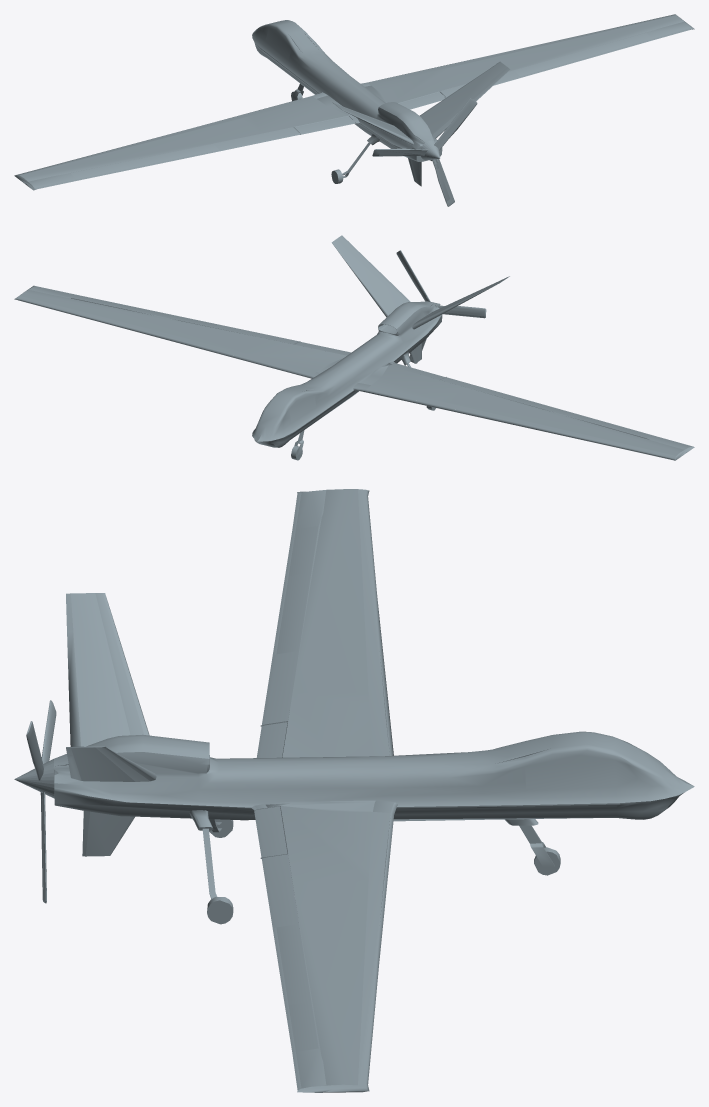
File: model-aircraft-dd-1.glb
3 renders of one model, top to bottom at view 1: azimuth 30°, elevation 25°; view 2: azimuth 150°, elevation 25°; view 3: azimuth 270°, elevation 25°, orthographic. The views are drawn at different scales.
Bounding box in the file's own units: 47.93 × 8.11 × 22.98.
